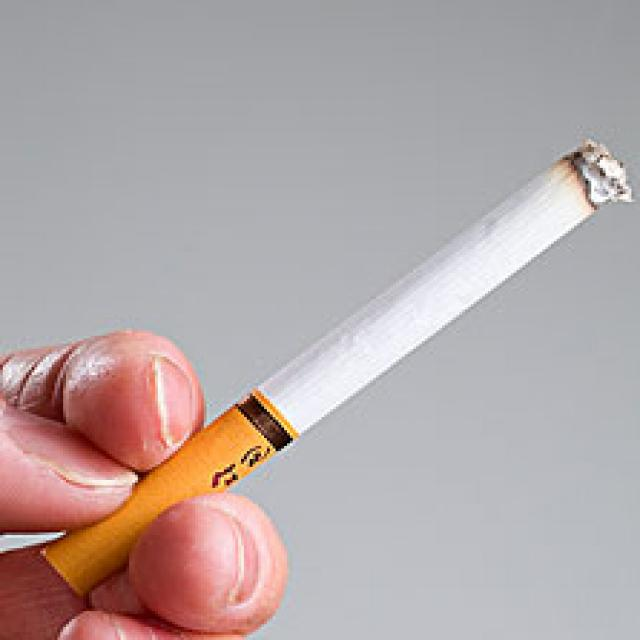smoking: (41, 138, 629, 596)
